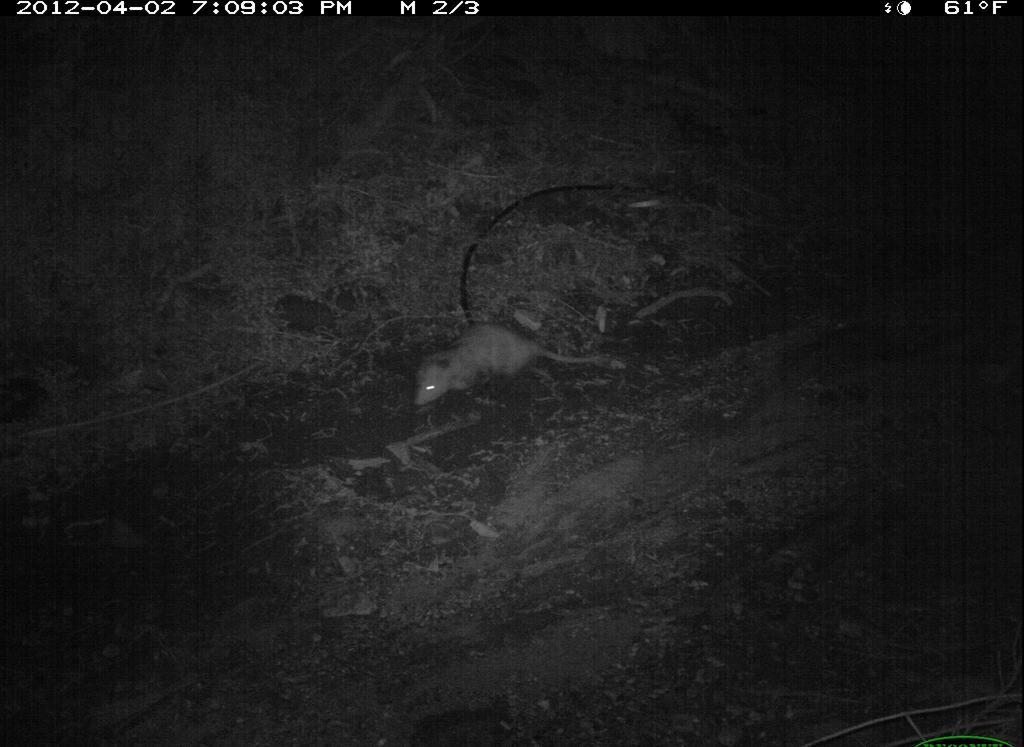opossum: (410, 314, 628, 420)
